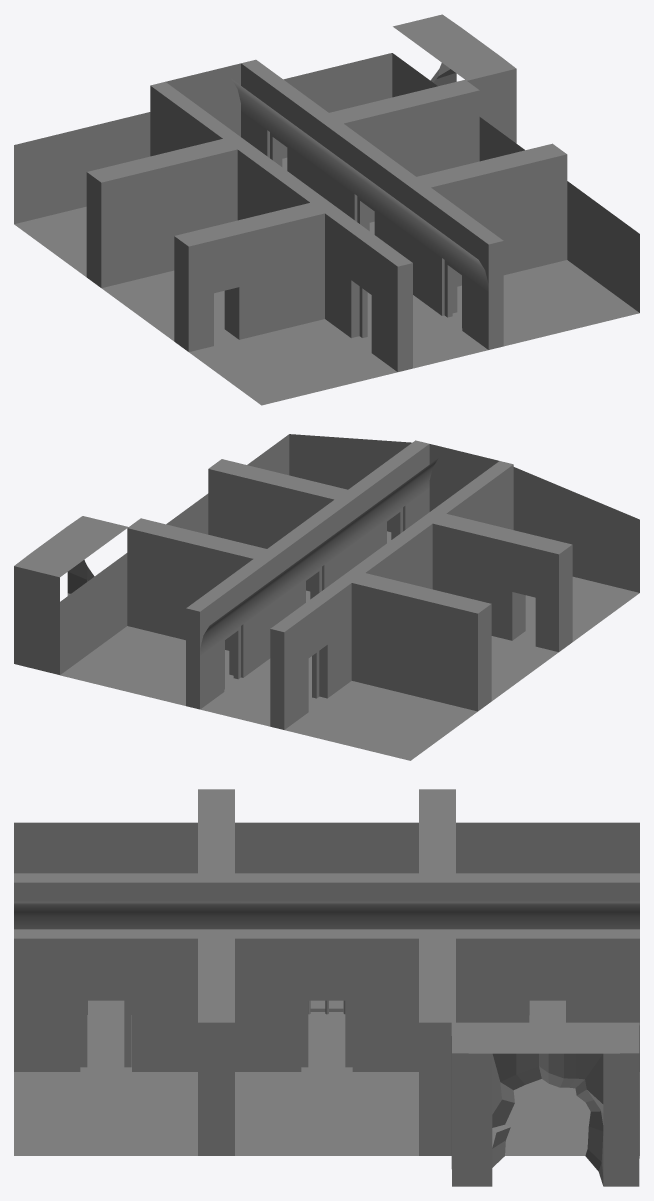
Rendered from prison.gltf.
The picture shows the model from 3 angles, top to bottom: view 1: azimuth 30°, elevation 25°; view 2: azimuth 150°, elevation 25°; view 3: azimuth 270°, elevation 25°; orthographic projection. The views are drawn at different scales.
Parts seen in each view (by area): view 1: Walls, ___DoorwayCover0, Bars5.001; view 2: Walls, ___DoorwayCover2, ___DoorwayCover1, Bars5.003; view 3: Walls, Bars5.001, Bars5.002.
Boxes of the visible parts, x1=… form: Walls: x1=14, y1=14, x2=639, y2=405; ___DoorwayCover0: x1=192, y1=90, x2=240, y2=136; Bars5.001: x1=444, y1=260, x2=462, y2=327; Walls: x1=14, y1=434, x2=639, y2=760; ___DoorwayCover2: x1=73, y1=562, x2=113, y2=663; ___DoorwayCover1: x1=429, y1=469, x2=474, y2=511; Bars5.003: x1=224, y1=626, x2=240, y2=689; Walls: x1=14, y1=789, x2=639, y2=1186; Bars5.001: x1=80, y1=998, x2=131, y2=1067; Bars5.002: x1=301, y1=998, x2=352, y2=1067.
Bounding box in the file's own units: 17 × 4 × 17.
Materials: 1 (1 with a texture image).
